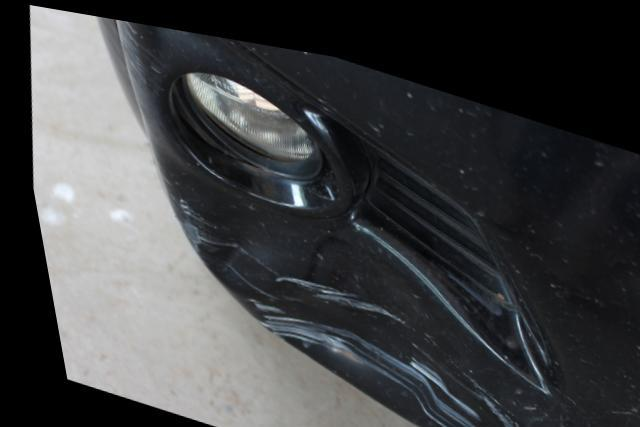dent: (204, 219, 474, 425)
scratch: (155, 165, 208, 261), (466, 368, 529, 427)
